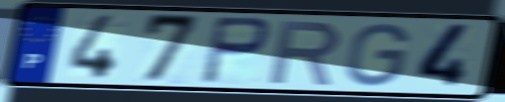4: (413, 21, 475, 93), (66, 12, 120, 81)
7: (141, 11, 201, 86)
G: (343, 21, 412, 89)
P: (197, 14, 273, 87)
R: (266, 18, 344, 87)
